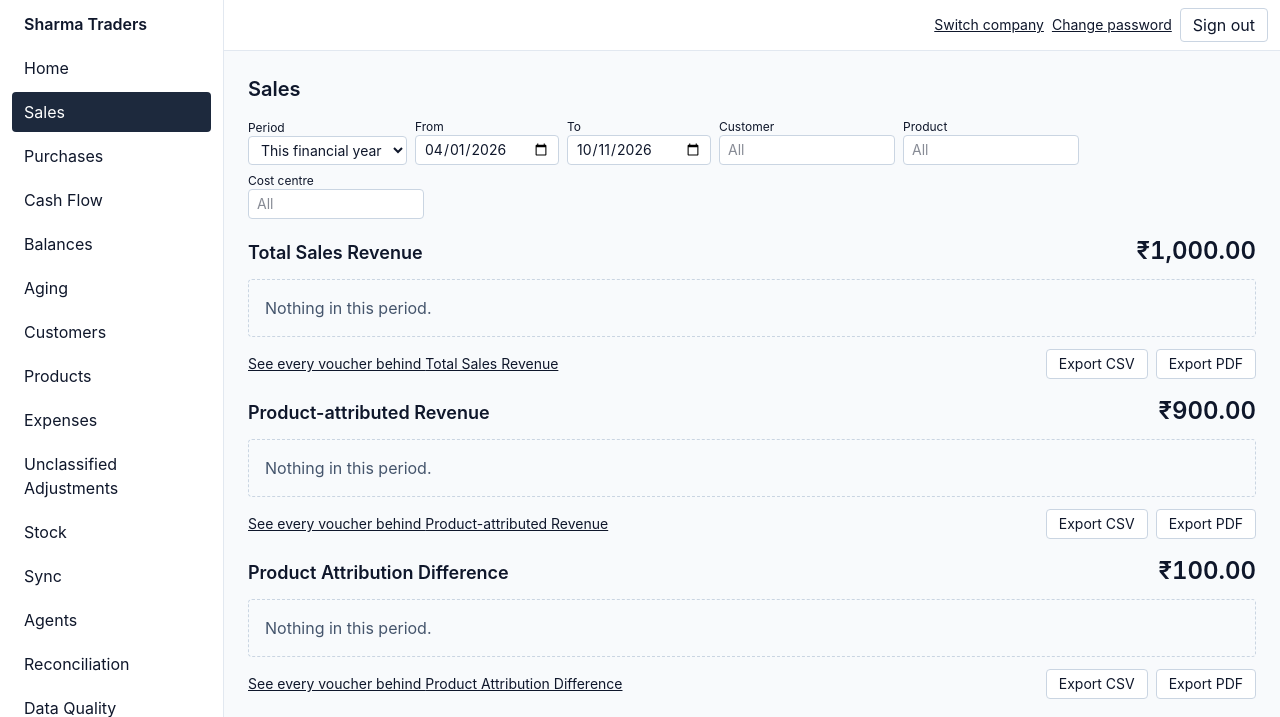
Scenario: UC-12: the Product Attribution Difference review › opens from the Difference section to the vouchers that hold revenue not tied to a stock item
The image size is (1280, 717).
Click the link "See every voucher behind Product Attribution Difference". click: (435, 684)
box: [248, 674, 622, 694]
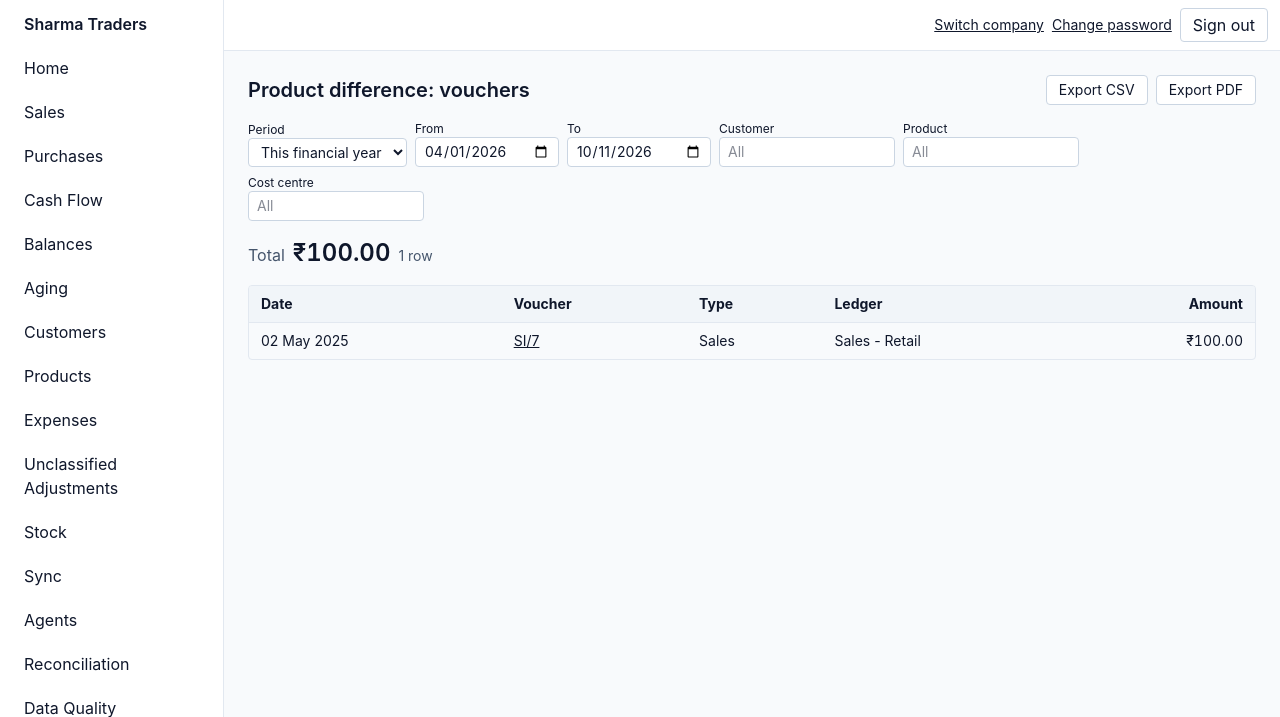
Now the link "SI/7" is shown, box [514, 332, 539, 349]
